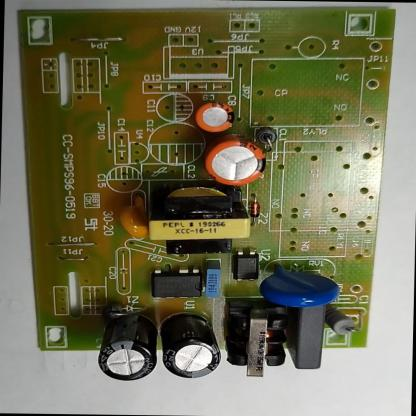Cap1: (205, 132, 268, 188)
Cap2: (194, 100, 235, 133)
Cap3: (159, 313, 221, 380)
Cap4: (99, 315, 158, 381)
MOSFET: (150, 268, 205, 300)
Mov: (258, 265, 338, 308)
Resistor: (324, 309, 359, 337)
Transformer: (146, 183, 250, 256), (226, 305, 289, 378)
